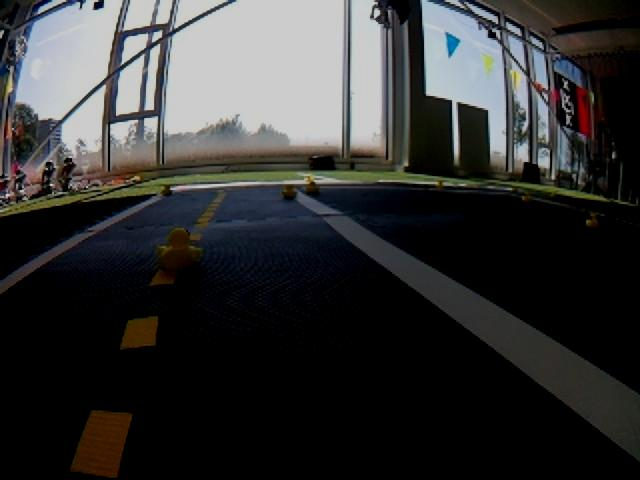Duckies: (157, 228, 202, 272), (585, 214, 599, 228), (281, 185, 296, 198), (306, 181, 319, 192), (161, 186, 172, 196), (521, 193, 532, 201), (304, 174, 315, 182), (435, 181, 444, 187)
